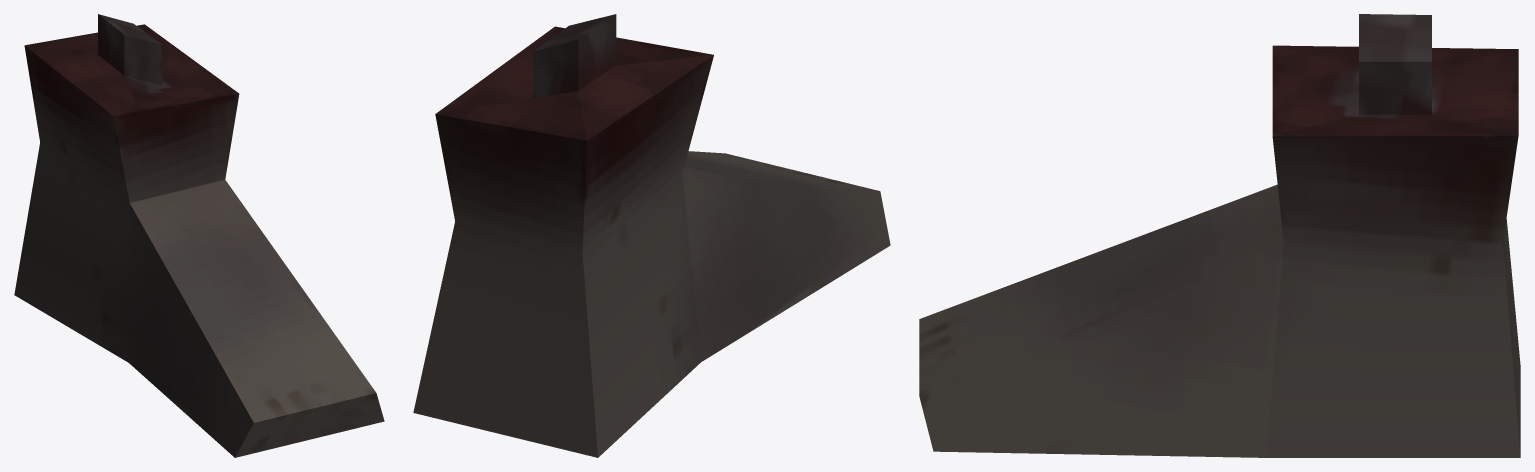
The model's file is lfoot.fbx.
The picture shows the model from 3 angles, left to right: view 1: azimuth 30°, elevation 25°; view 2: azimuth 150°, elevation 25°; view 3: azimuth 270°, elevation 25°; orthographic projection. The views are drawn at different scales.
Visible parts, largest first — view 1: lfoot; view 2: lfoot; view 3: lfoot.
Part boxes in pixels (x1=…): lfoot: x1=14, y1=14, x2=384, y2=457; lfoot: x1=413, y1=14, x2=890, y2=457; lfoot: x1=919, y1=14, x2=1520, y2=457.
Bounding box in the file's own units: 0.0982 × 0.1821 × 0.2598.
